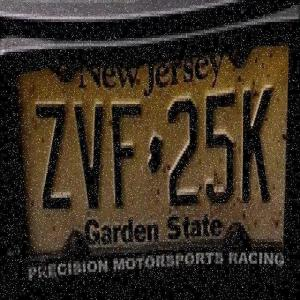Plate: (6, 36, 288, 288)
